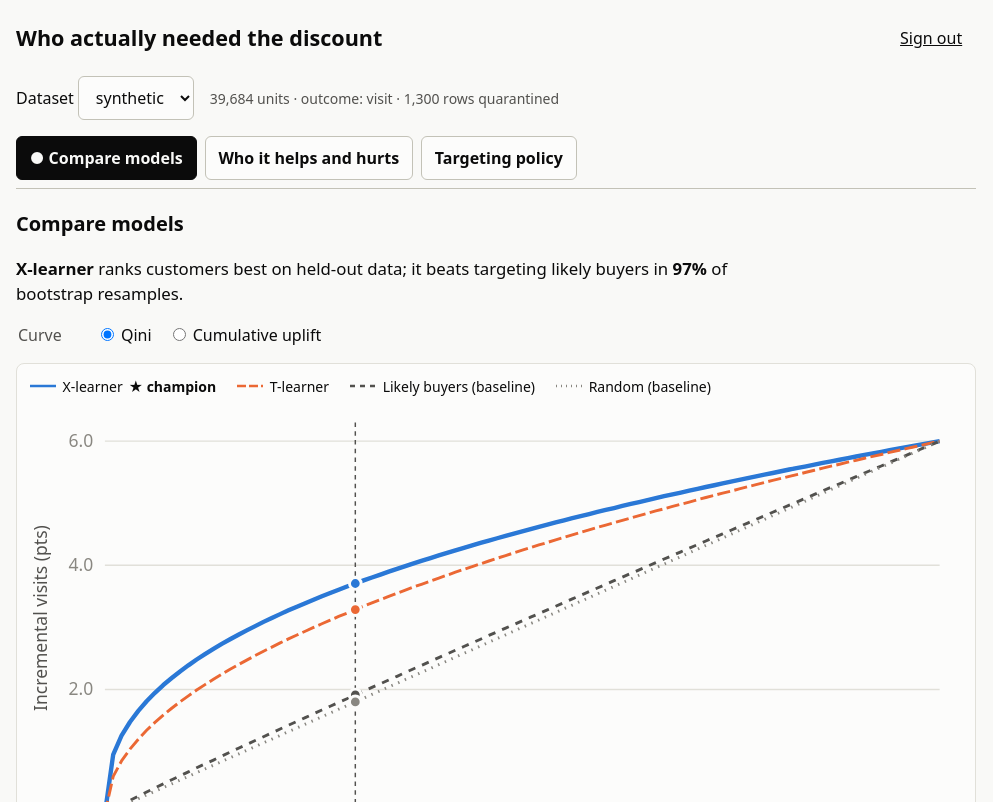
Test case: comparing models › caches: switching views and back makes no new requests
Expected: the text "ranks customers best" is shown, [94,257,402,280]
What coordinates should you click on to do the following:
click the button "Who it helps and hurts"
I would click on:
 (309, 158)
Its box is [205,136,413,180].
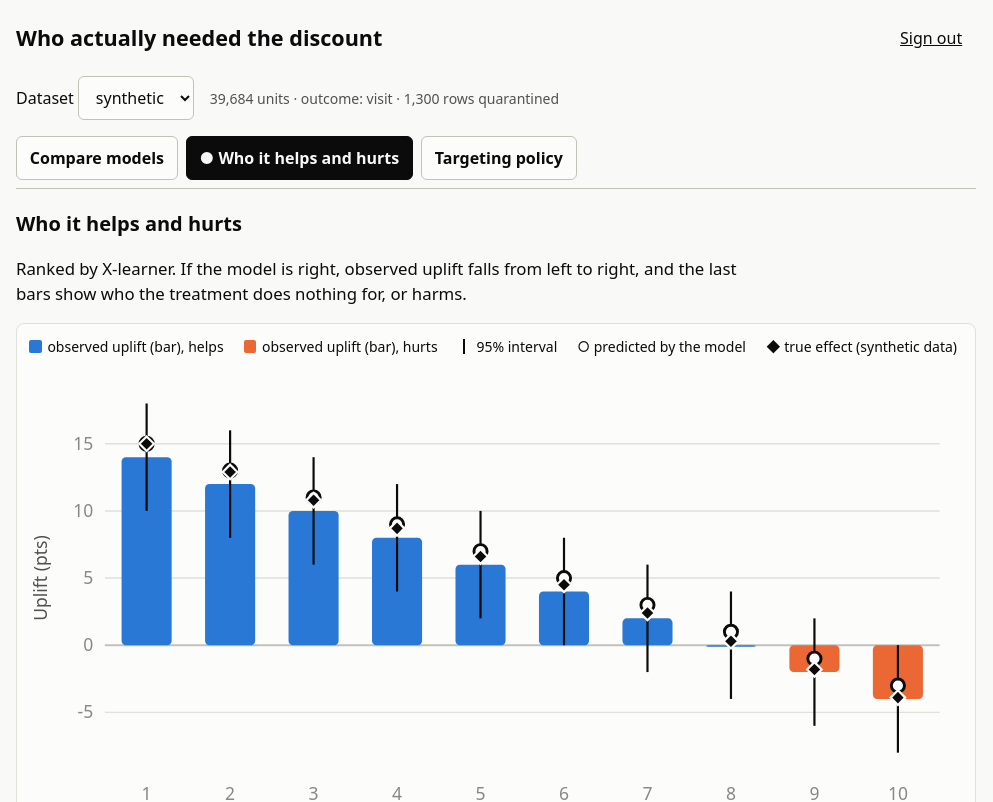
What coordinates should you click on to do the following:
click the button "Compare models"
I would click on:
 (97, 158)
Its box is [16,136,178,180].
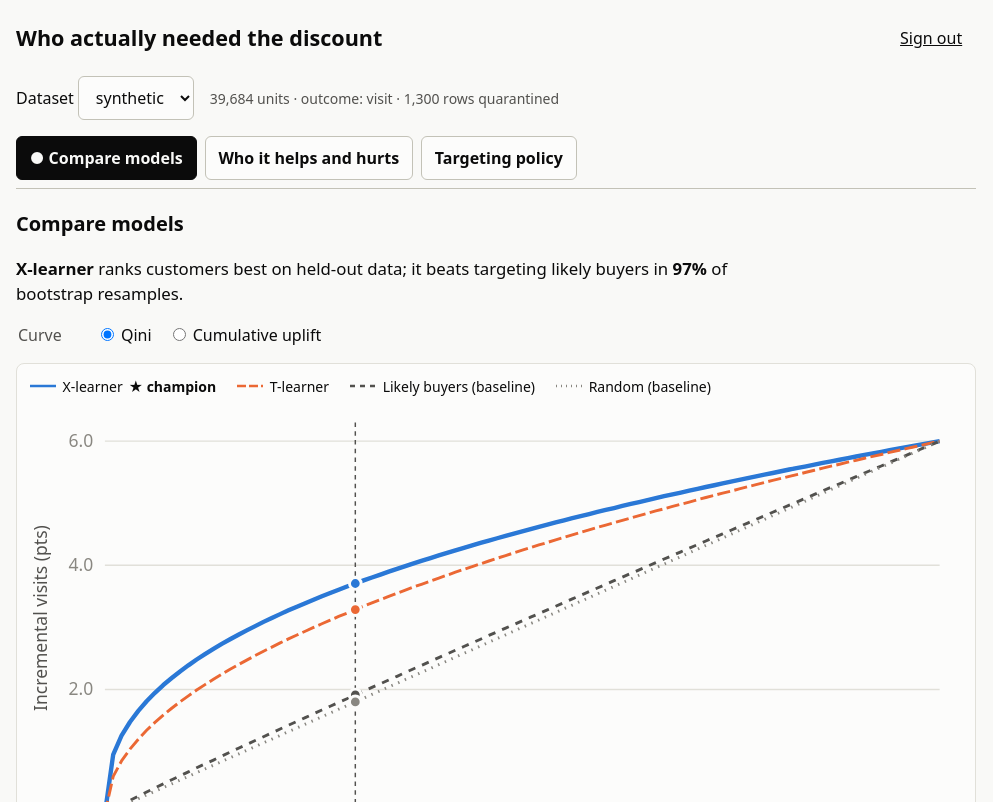
What coordinates should you click on to do the following:
click the button "Who it helps and hurts"
I would click on:
 (309, 158)
Its box is [205,136,413,180].
(page scrolled)
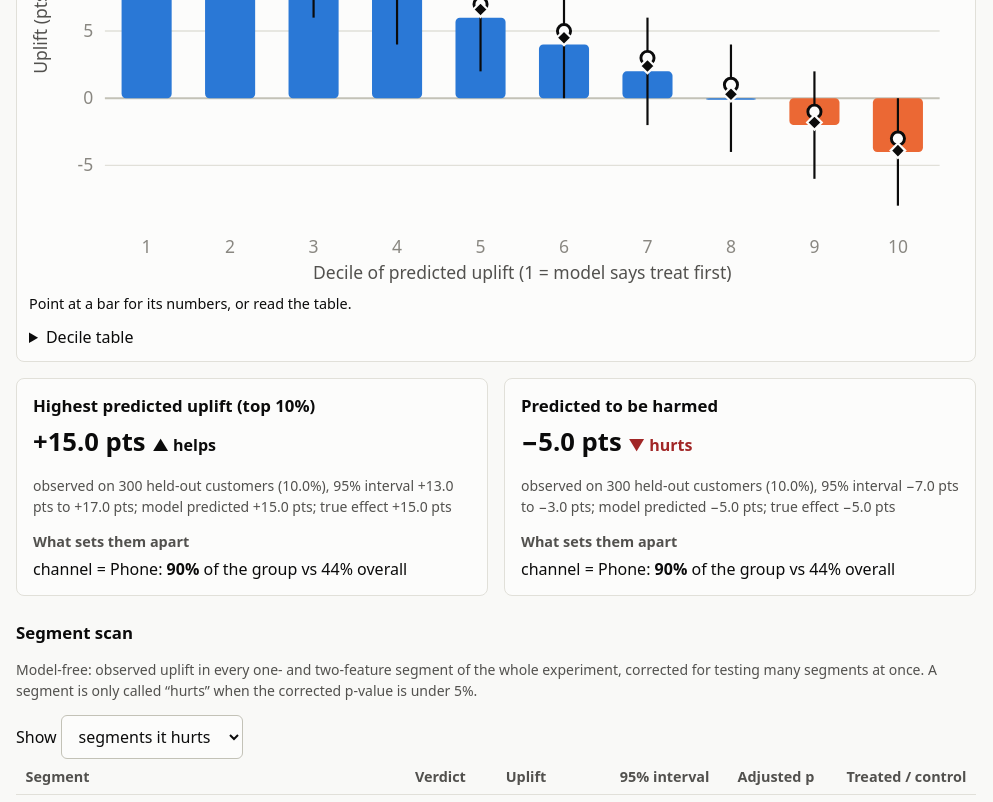
Now the heading "Predicted to be harmed" is shown, box [521,394,718,417]
